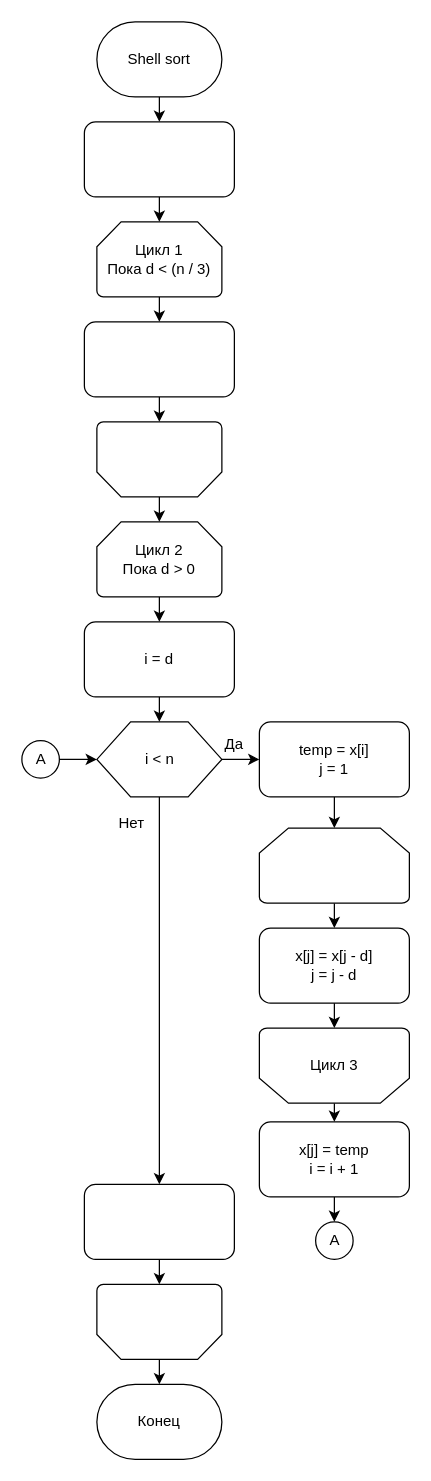
Image size: 431x1481. Some labels were removed from this diagram. Each missing label, with the centre of its shape:
"d = (d - 1) / 3" goes at (x=158, y=1221).
"d = 1" goes at (x=158, y=159).
"d = d * 3 + 1" goes at (x=158, y=359).
"Цикл 1" goes at (x=159, y=459).
"Цикл 2" goes at (x=159, y=1321).
"Цикл 3 Пока j >= d и x[i - d] > temp" goes at (x=333, y=865).
